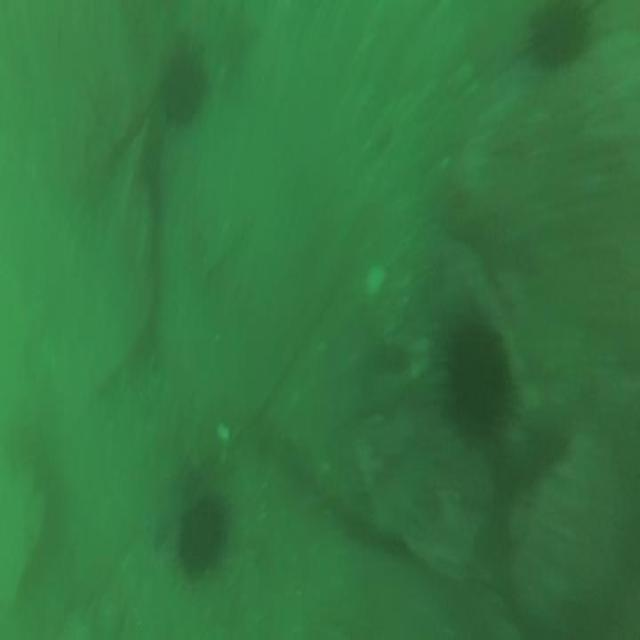echinus: (447, 326, 509, 442), (176, 499, 226, 578), (531, 1, 589, 66), (161, 50, 202, 126)
